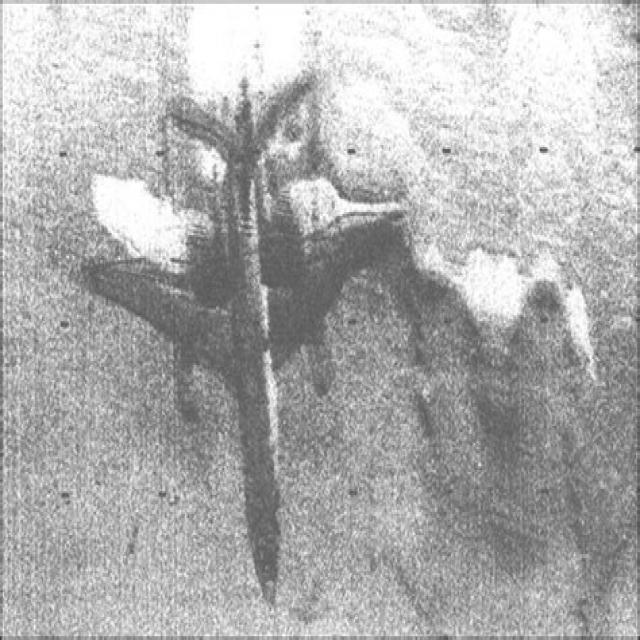plane: (80, 63, 408, 550)
